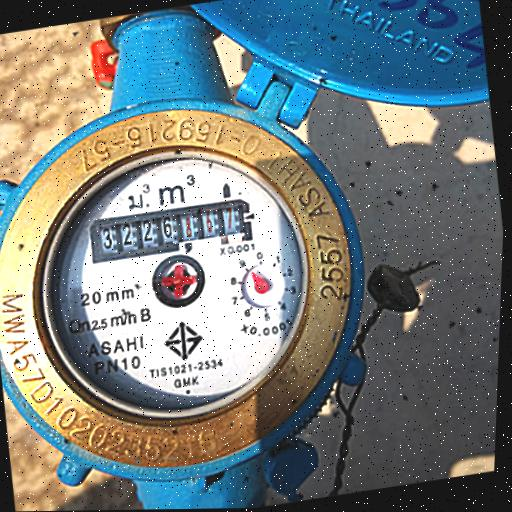2: (118, 221, 138, 252), (138, 218, 158, 248)
3: (97, 225, 118, 255)
6: (158, 215, 178, 244), (200, 209, 219, 237)
7: (220, 204, 240, 235)
8: (179, 211, 199, 241)
border_water_meter_number: (85, 196, 254, 266)
